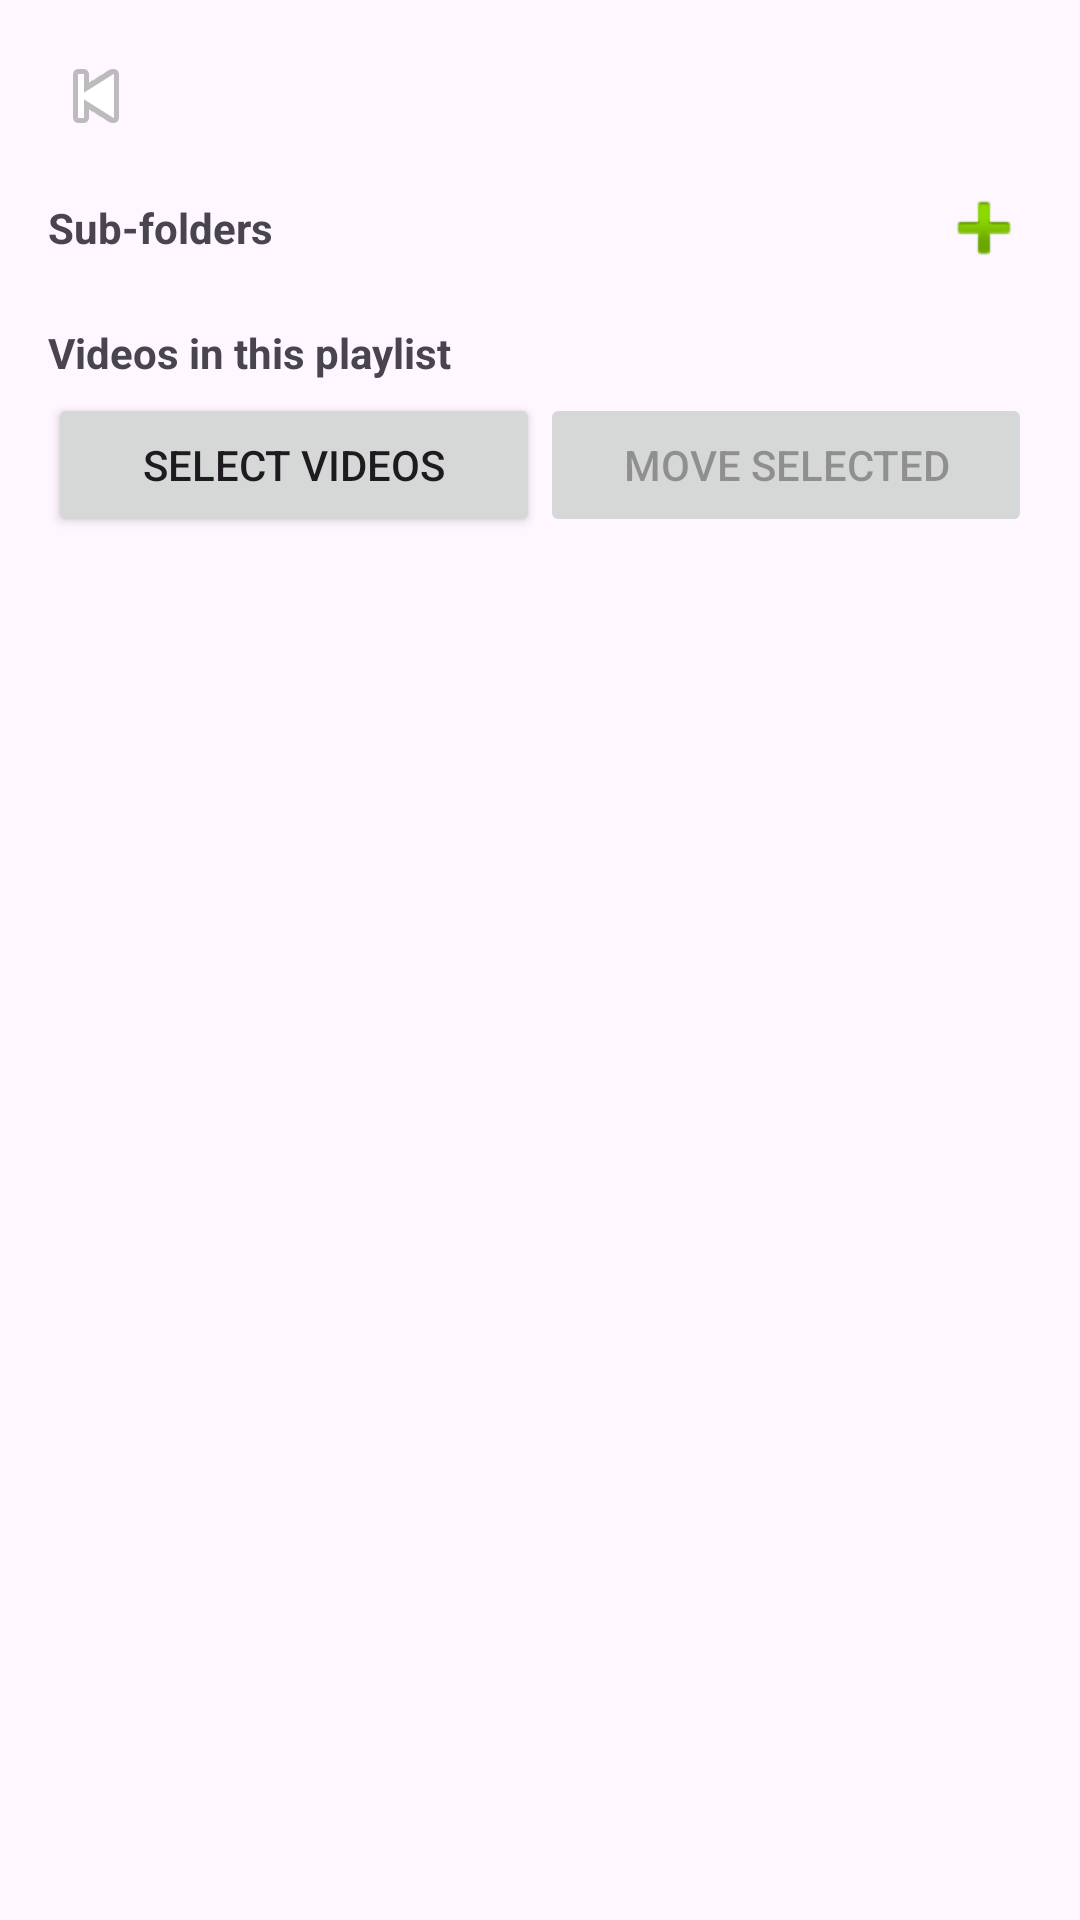

Point at icon controls on the screen. Image size 1080 x 1920, points as [x,y].
Add sub-folder: [984,228]
Back: [96,96]
